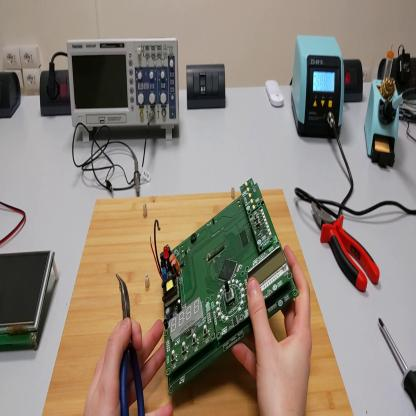hand: (234, 243, 313, 416), (84, 318, 173, 416)
low voltage board: (151, 179, 301, 397)
oscilloscope: (67, 38, 179, 147)
oscilloscope probe tip: (134, 154, 143, 199)
pliers: (314, 201, 382, 294), (116, 268, 145, 413)
screwdriver-: (379, 319, 416, 408)
socket: (39, 71, 73, 118), (378, 58, 415, 101), (344, 58, 366, 106), (1, 72, 22, 120)
welder base: (367, 50, 401, 171)
welder probe tip: (385, 86, 414, 117)
welder station: (295, 33, 345, 142)
working area: (42, 188, 353, 415)
